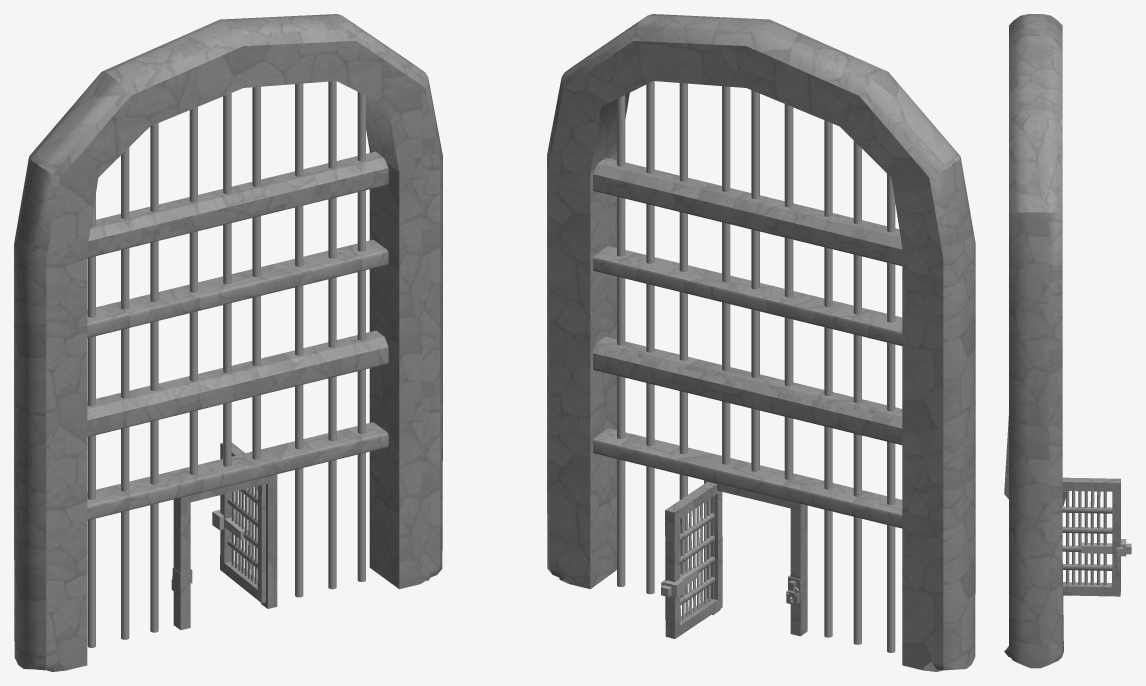
Rendered from Jail_ArchDoor.fbx.
3 renders of one model, left to right at view 1: azimuth 30°, elevation 25°; view 2: azimuth 150°, elevation 25°; view 3: azimuth 270°, elevation 25°, orthographic. The views are drawn at different scales.
Parts seen in each view (by area): view 1: Arch1, polySurface53, Jail_Bar15, Jail_Bar14, Jail_Bar20, Jail_Bar21, Jail_Bar, Jail_Bar19, Jail_Bar18, Jail_Bar17, Jail_Bar16, polySurface36; view 2: Arch1, polySurface36, Jail_Bar20, Jail_Bar14, Jail_Bar21, Jail_Bar, Jail_Bar19, polySurface53, Jail_Bar15, Jail_Bar16, Jail_Bar18, Jail_Bar17; view 3: Arch1, polySurface36, polySurface38, polySurface37, polySurface39, polySurface33, polySurface35, polySurface43, polySurface47, polySurface32, polySurface40, polySurface46 (+1 smaller).
Boxes of the visible parts, <box> form: Arch1: <box>14,14,442,671</box>; polySurface53: <box>173,474,277,629</box>; Jail_Bar15: <box>295,83,303,597</box>; Jail_Bar14: <box>328,81,336,589</box>; Jail_Bar20: <box>150,123,158,632</box>; Jail_Bar21: <box>121,147,129,639</box>; Jail_Bar: <box>357,92,365,581</box>; Jail_Bar19: <box>87,194,95,647</box>; Jail_Bar18: <box>223,93,231,466</box>; Jail_Bar17: <box>252,86,260,459</box>; Jail_Bar16: <box>189,107,197,474</box>; polySurface36: <box>220,442,265,602</box>; Arch1: <box>547,14,975,671</box>; polySurface36: <box>665,482,722,638</box>; Jail_Bar20: <box>824,120,832,637</box>; Jail_Bar14: <box>646,81,654,594</box>; Jail_Bar21: <box>853,141,861,644</box>; Jail_Bar: <box>617,95,625,586</box>; Jail_Bar19: <box>887,174,895,652</box>; polySurface53: <box>704,480,807,636</box>; Jail_Bar15: <box>679,83,687,597</box>; Jail_Bar16: <box>784,104,793,479</box>; Jail_Bar18: <box>751,90,759,471</box>; Jail_Bar17: <box>722,86,730,464</box>; Arch1: <box>1004,14,1065,668</box>; polySurface36: <box>1062,477,1120,596</box>; polySurface38: <box>1081,542,1131,554</box>; polySurface37: <box>1062,526,1112,533</box>; polySurface39: <box>1062,506,1112,513</box>; polySurface33: <box>1063,564,1112,570</box>; polySurface35: <box>1066,491,1069,584</box>; polySurface43: <box>1078,491,1081,584</box>; polySurface47: <box>1103,491,1106,585</box>; polySurface32: <box>1097,491,1100,585</box>; polySurface40: <box>1072,491,1075,584</box>; polySurface46: <box>1090,491,1094,585</box>.
Size of the model in its own units: 2506 by 3112 by 673.
